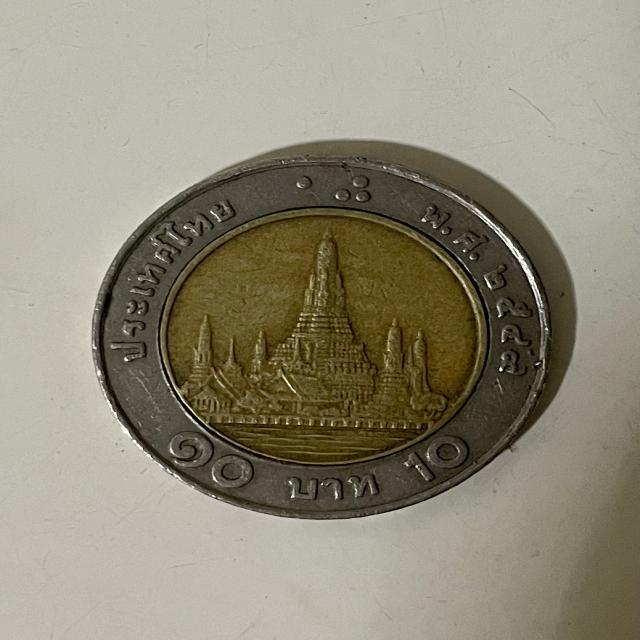10 Bath: (80, 148, 565, 529)
